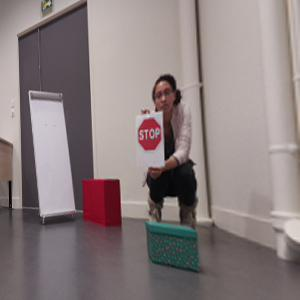big: (28, 90, 75, 220)
medium: (82, 178, 123, 227)
small: (144, 221, 200, 272)
